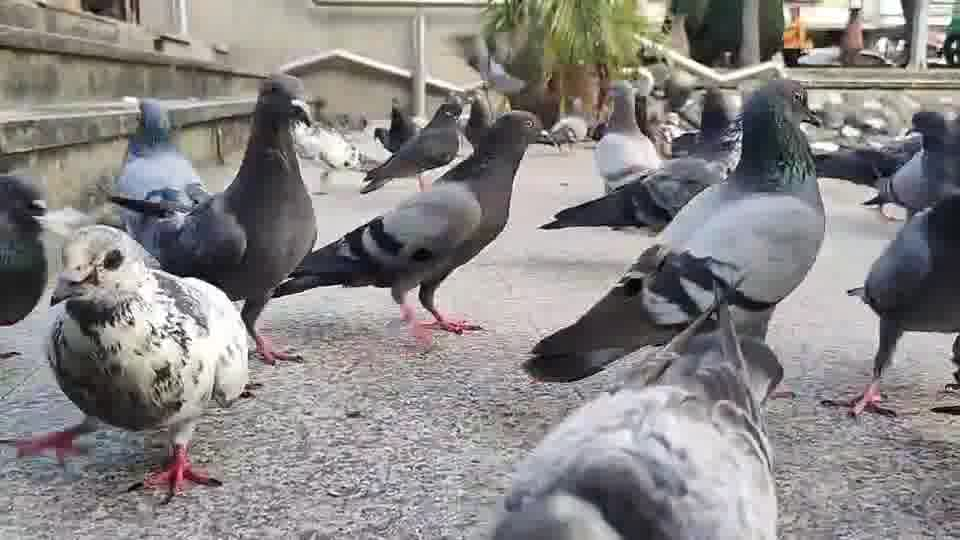Pigeon: (521, 76, 826, 383), (490, 283, 784, 538), (14, 222, 253, 503), (270, 105, 546, 337), (107, 73, 319, 366), (819, 193, 959, 418), (536, 83, 744, 233), (110, 97, 210, 217), (860, 109, 959, 221), (358, 93, 465, 194), (590, 79, 661, 194), (0, 172, 48, 327), (373, 96, 419, 153)
